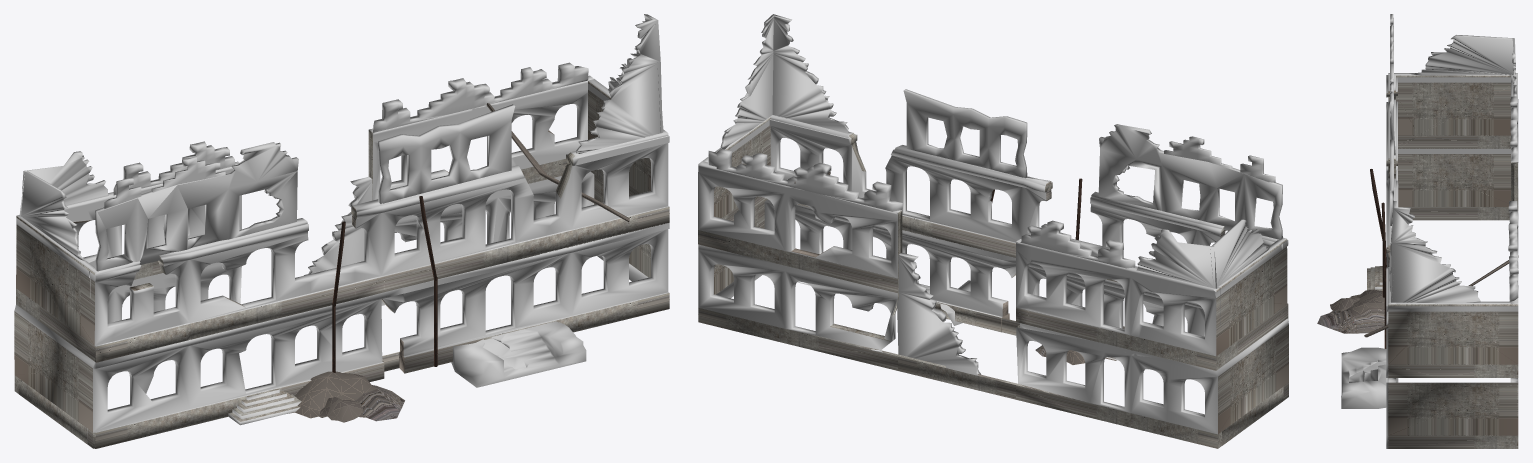
File: long house yellow2 LOD1.fbx
3 renders of one model, left to right at view 1: azimuth 30°, elevation 25°; view 2: azimuth 150°, elevation 25°; view 3: azimuth 270°, elevation 25°, orthographic. The views are drawn at different scales.
Parts seen in each view (by area): view 1: long_house_yellow2_LOD1; view 2: long_house_yellow2_LOD1; view 3: long_house_yellow2_LOD1.
Boxes of the visible parts, box(x1,y1,x2,y2) form: long_house_yellow2_LOD1: box(14, 14, 669, 448); long_house_yellow2_LOD1: box(698, 14, 1288, 448); long_house_yellow2_LOD1: box(1317, 14, 1518, 448).
Bounding box in the file's own units: 25.39 × 12.36 × 9.32.
